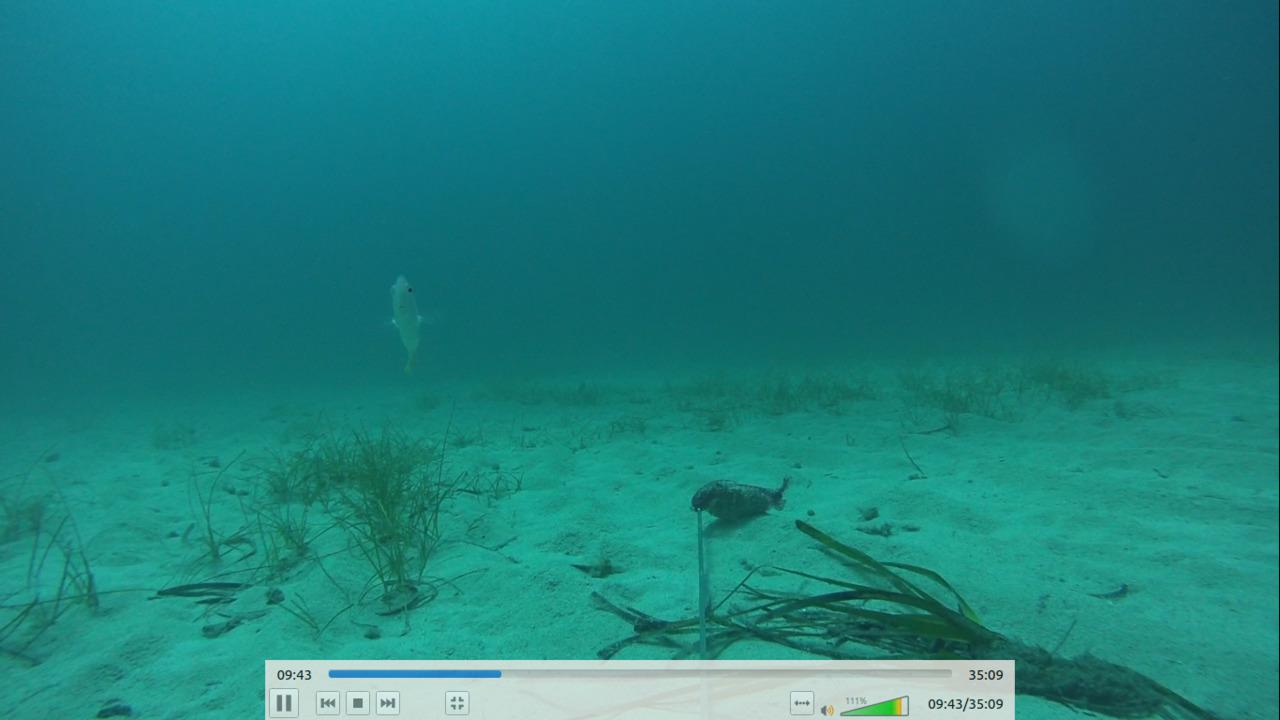raor: (378, 264, 437, 382)
